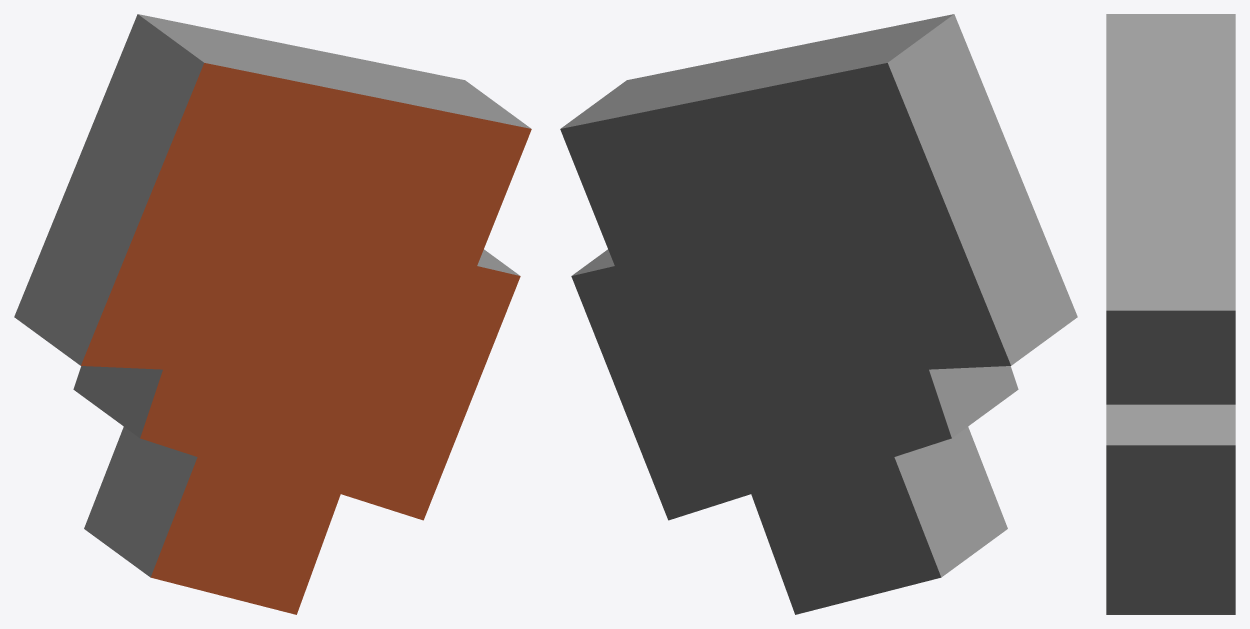
Rendered from construction_4019_assumed_A_Casa_h6m.obj.
3 views of the same model, side by side, from view 1: azimuth 30°, elevation 25°; view 2: azimuth 150°, elevation 25°; view 3: azimuth 270°, elevation 25° (orthographic). The views are drawn at different scales.
Parts seen in each view (by area): view 1: construction_4019_assumed_A_Casa; view 2: construction_4019_assumed_A_Casa; view 3: construction_4019_assumed_A_Casa.
Part boxes in pixels (left/top/right/bottom): construction_4019_assumed_A_Casa: left=14, top=14, right=531, bottom=614; construction_4019_assumed_A_Casa: left=560, top=14, right=1077, bottom=614; construction_4019_assumed_A_Casa: left=1106, top=14, right=1235, bottom=614.
Size of the model in its own units: 23.44 by 28.54 by 6.
